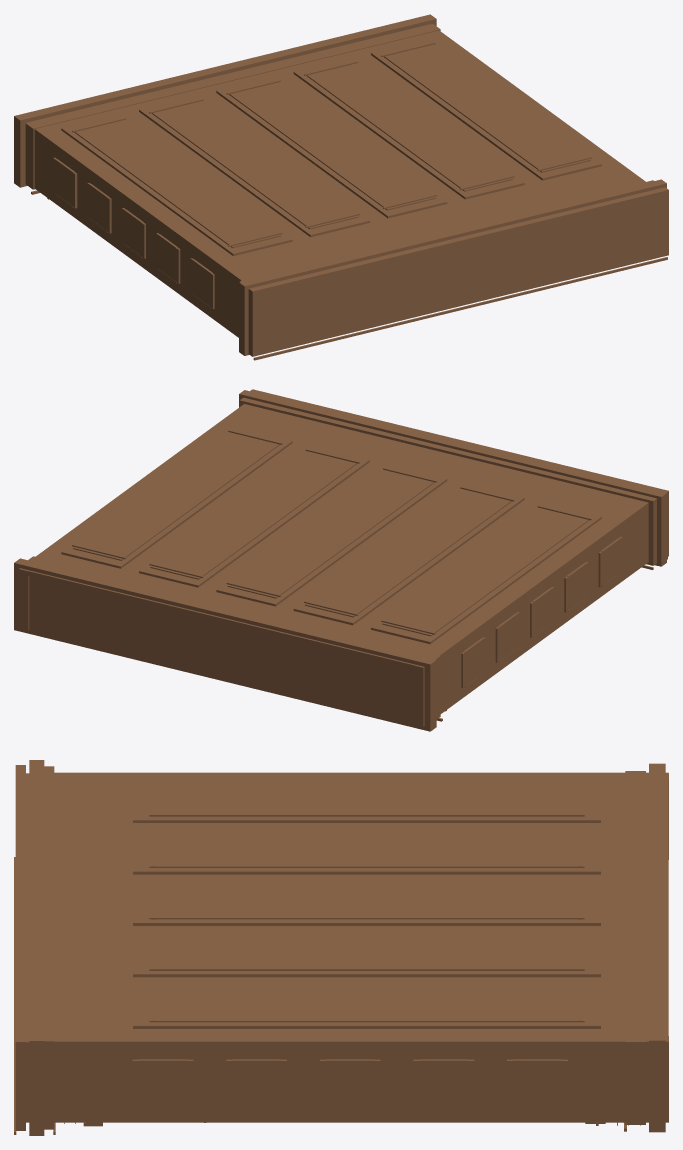
File: ornate-three-bay-library-bookcase.glb
The picture shows the model from 3 angles, top to bottom: view 1: azimuth 30°, elevation 25°; view 2: azimuth 150°, elevation 25°; view 3: azimuth 270°, elevation 25°; orthographic projection. The views are drawn at different scales.
Parts seen in each view (by area): view 1: shadow_wood, dark_oak, mid_oak, gold; view 2: shadow_wood, dark_oak, mid_oak, gold; view 3: shadow_wood, dark_oak, mid_oak, gold.
Part boxes in pixels (x1=…): shadow_wood: x1=26, y1=24, x2=645, y2=281; dark_oak: x1=14, y1=14, x2=668, y2=356; mid_oak: x1=53, y1=38, x2=666, y2=355; gold: x1=31, y1=42, x2=667, y2=360; shadow_wood: x1=19, y1=404, x2=648, y2=669; dark_oak: x1=14, y1=389, x2=668, y2=731; mid_oak: x1=61, y1=390, x2=666, y2=687; gold: x1=72, y1=430, x2=667, y2=721; shadow_wood: x1=54, y1=772, x2=668, y2=1125; dark_oak: x1=15, y1=763, x2=668, y2=1132; mid_oak: x1=29, y1=760, x2=600, y2=1135; gold: x1=14, y1=779, x2=626, y2=1134.
Bounding box in the file's own units: 7.1 × 1.31 × 7.
